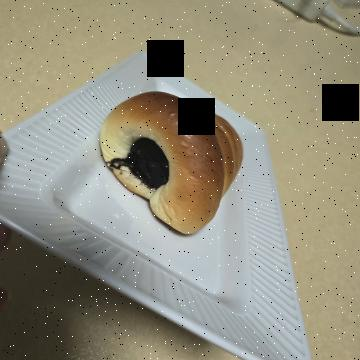cream horn: (77, 98, 250, 260)
